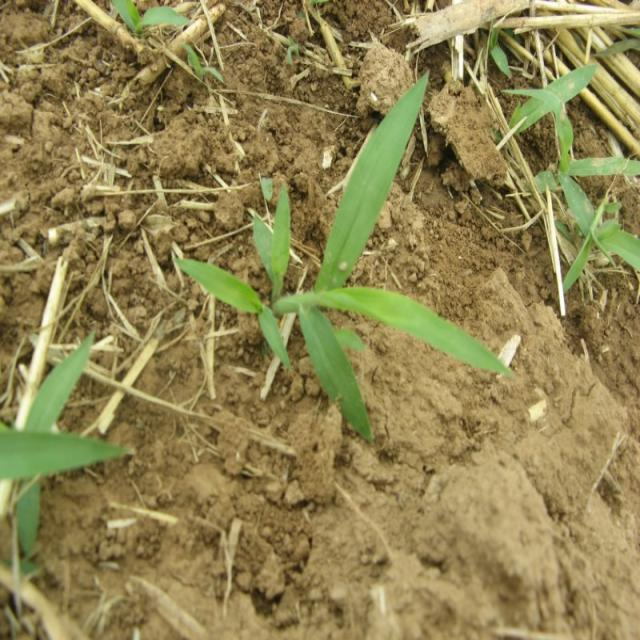bg: (176, 75, 515, 442)
